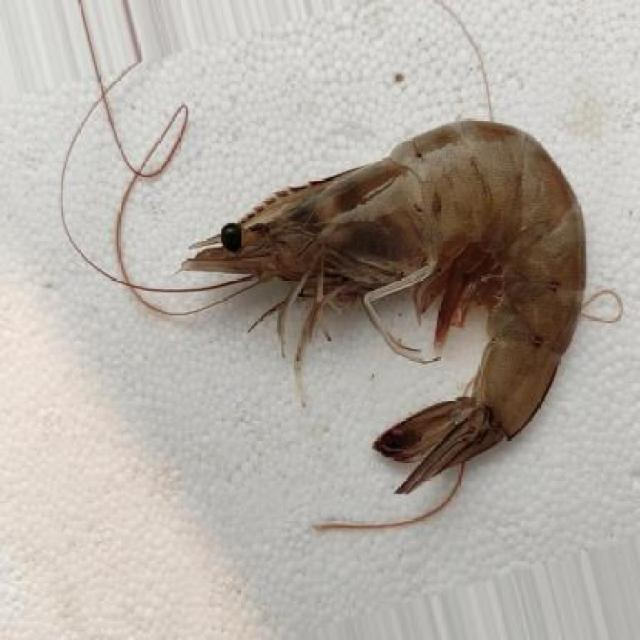shrimp: (180, 110, 586, 488)
